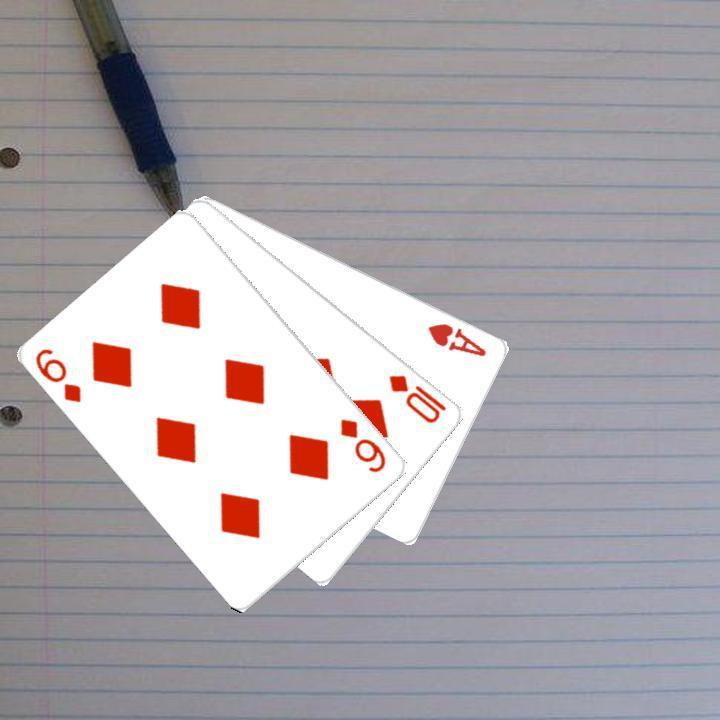10: (385, 370, 449, 426)
6: (336, 414, 389, 475), (31, 344, 84, 405)
A: (423, 318, 489, 358)
